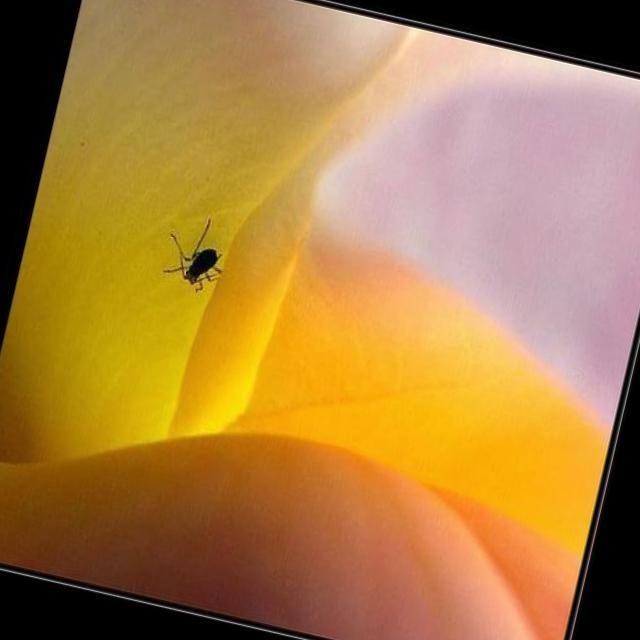aphid: (125, 194, 240, 298)
